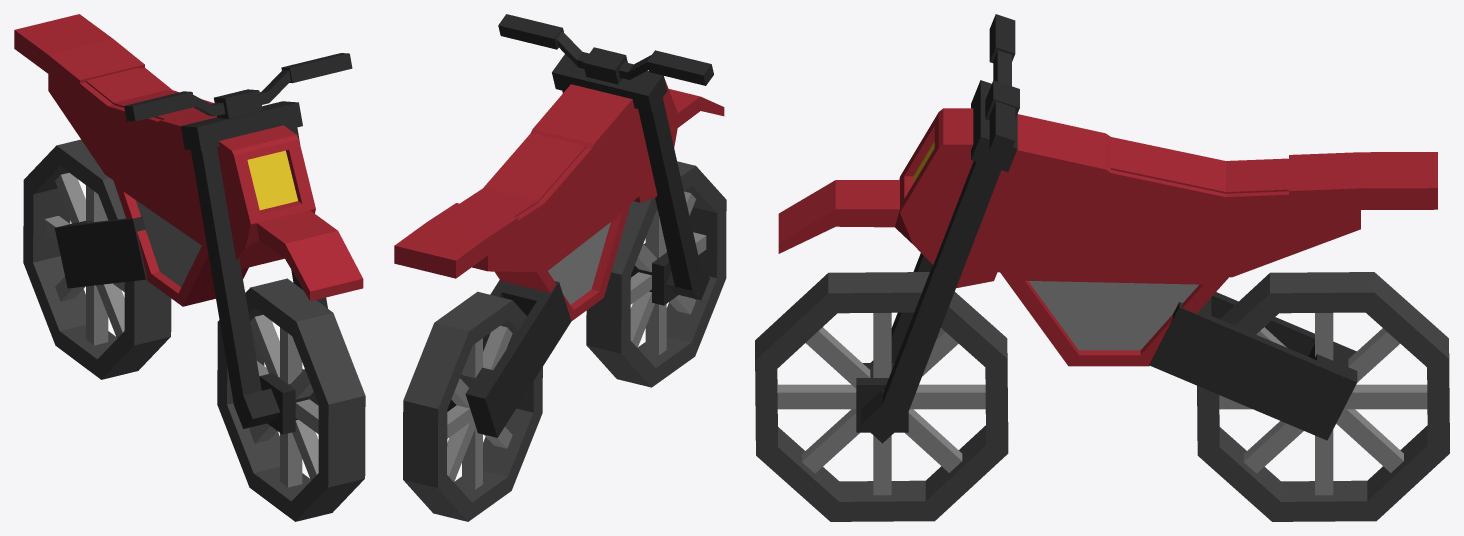
The model's file is Bike2.fbx.
3 renders of one model, left to right at view 1: azimuth 30°, elevation 25°; view 2: azimuth 150°, elevation 25°; view 3: azimuth 270°, elevation 25°, orthographic. The views are drawn at different scales.
Visible parts, largest first — view 1: Body2, WheelFront2, WheelBack2; view 2: Body2, WheelBack2, WheelFront2; view 3: Body2, WheelFront2, WheelBack2.
Part boxes in pixels (box(x1,y1,x2,y2)): Body2: box(14, 14, 363, 434); WheelFront2: box(217, 278, 365, 521); WheelBack2: box(23, 139, 171, 379); Body2: box(394, 14, 724, 437); WheelBack2: box(403, 291, 542, 521); WheelFront2: box(586, 161, 726, 387); Body2: box(778, 14, 1437, 443); WheelFront2: box(755, 272, 1008, 521); WheelBack2: box(1197, 272, 1449, 521).
Bounding box in the file's own units: 95.39 × 161 × 232.
